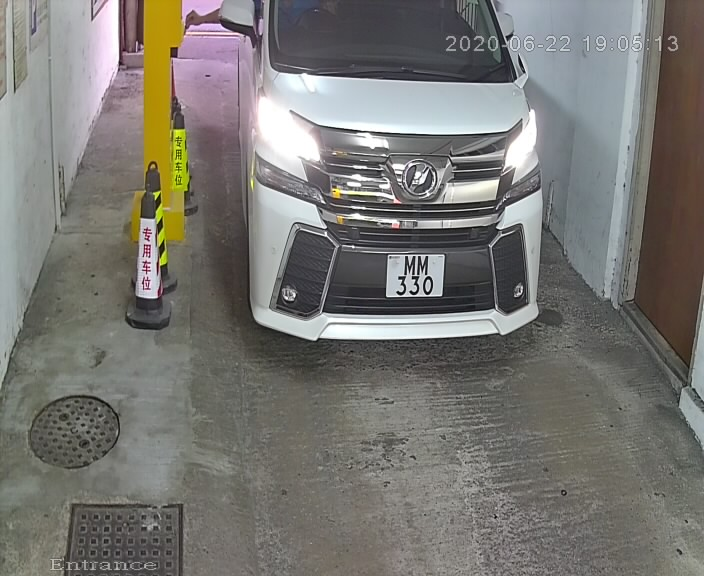privatecar: (194, 1, 573, 368)
